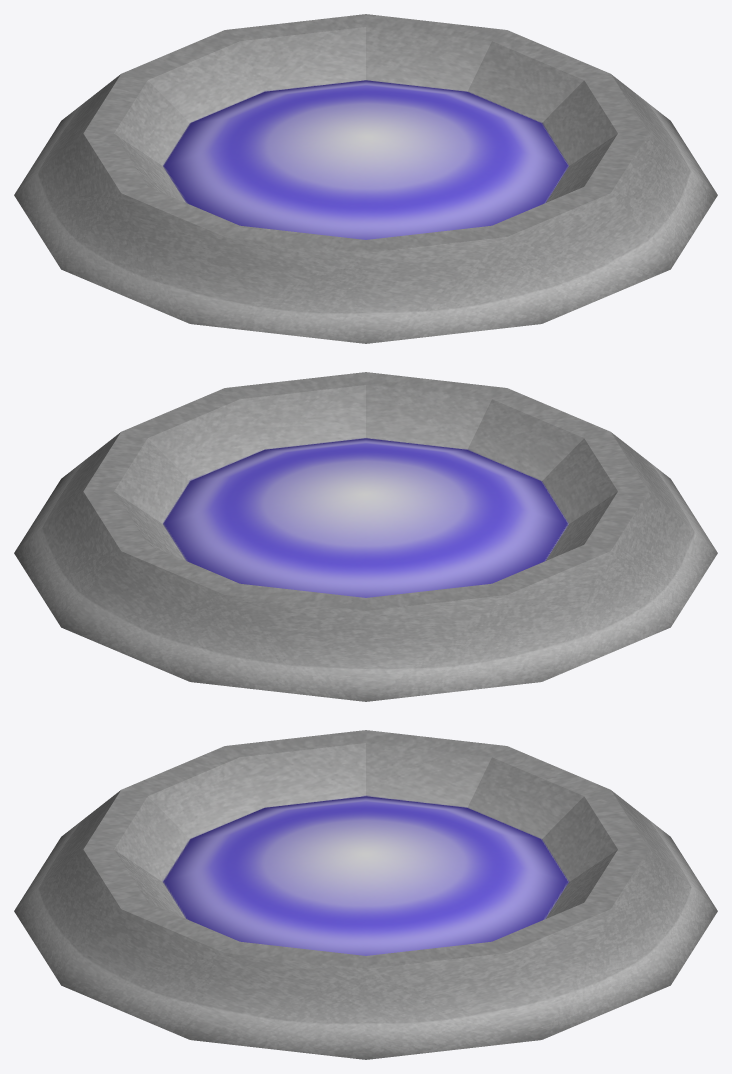
Rendered from teleportpad.fbx.
3 renders of one model, top to bottom at view 1: azimuth 30°, elevation 25°; view 2: azimuth 150°, elevation 25°; view 3: azimuth 270°, elevation 25°, orthographic.
Parts seen in each view (by area): view 1: TeleportPad; view 2: TeleportPad; view 3: TeleportPad.
Boxes of the visible parts, x1,y1,x2,y2 form: TeleportPad: (14,14,717,343); TeleportPad: (14,372,717,701); TeleportPad: (14,730,717,1059).
Bounding box in the file's own units: 13.84 × 1.34 × 13.84.
1 material, 1 textured.
